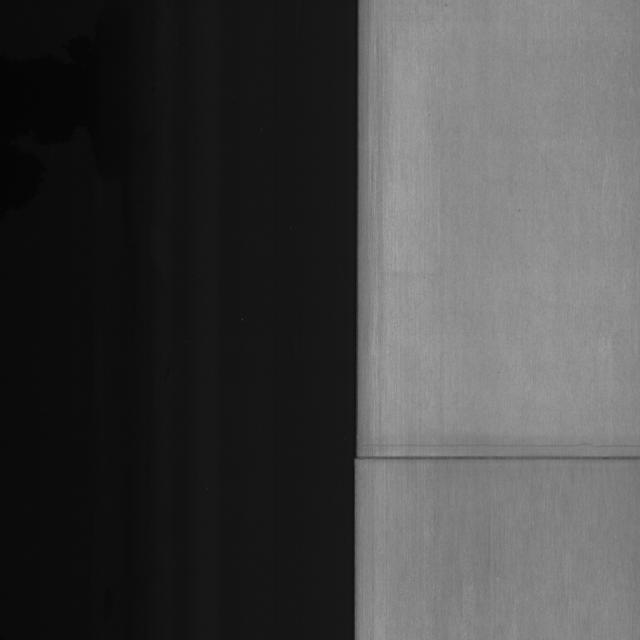crease: (350, 443, 640, 475)
